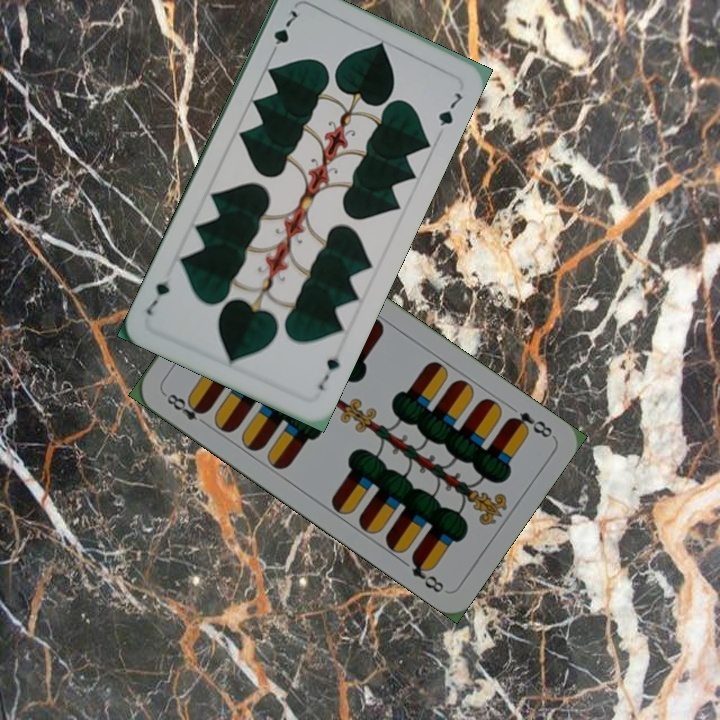E8: (159, 388, 210, 429), (503, 408, 555, 441)
G7: (268, 5, 300, 60), (314, 346, 344, 394)
